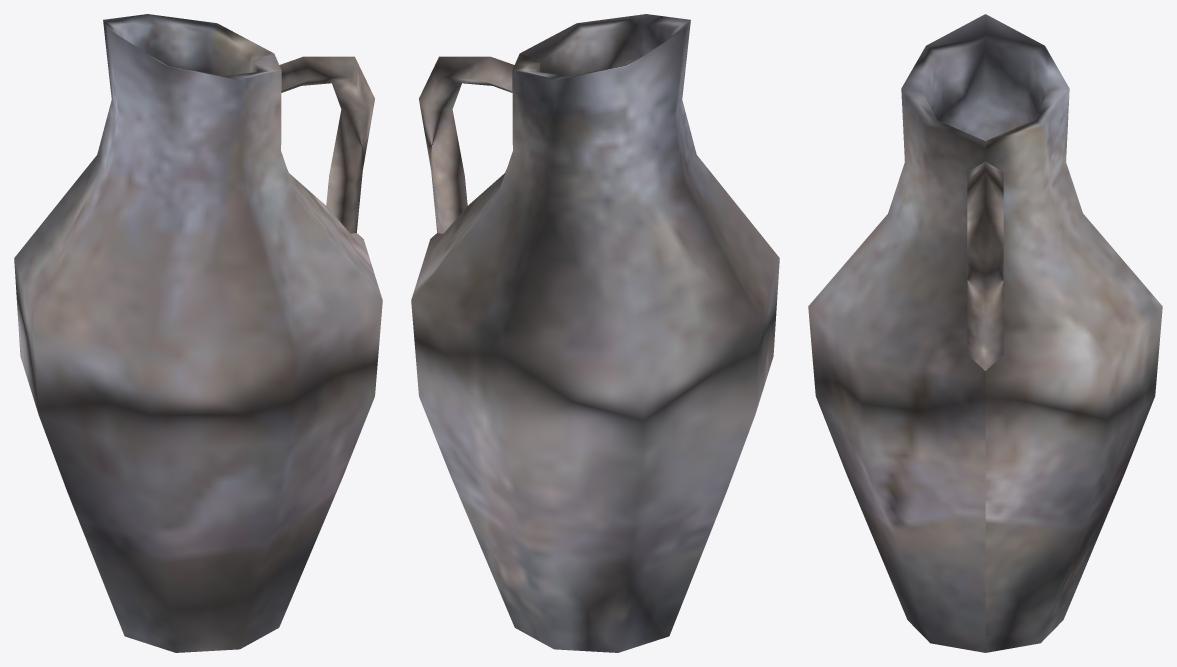
File: poe-pot-2.glb
The picture shows the model from 3 angles, left to right: view 1: azimuth 30°, elevation 25°; view 2: azimuth 150°, elevation 25°; view 3: azimuth 270°, elevation 25°; orthographic projection. The views are drawn at different scales.
Parts seen in each view (by area): view 1: poe-pot-2_mesh; view 2: poe-pot-2_mesh; view 3: poe-pot-2_mesh.
Part boxes in pixels (bbox=[...]): poe-pot-2_mesh: bbox=[14, 14, 382, 652]; poe-pot-2_mesh: bbox=[411, 14, 779, 652]; poe-pot-2_mesh: bbox=[808, 14, 1162, 652].
Size of the model in its own units: 0.3101 by 0.5317 by 0.302.
1 material, 1 textured.
